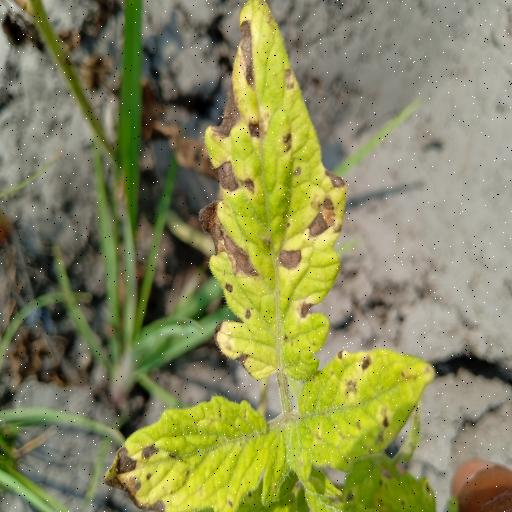Tomato_Brown_Spots: (197, 0, 345, 386), (277, 345, 436, 481), (104, 395, 280, 512)
